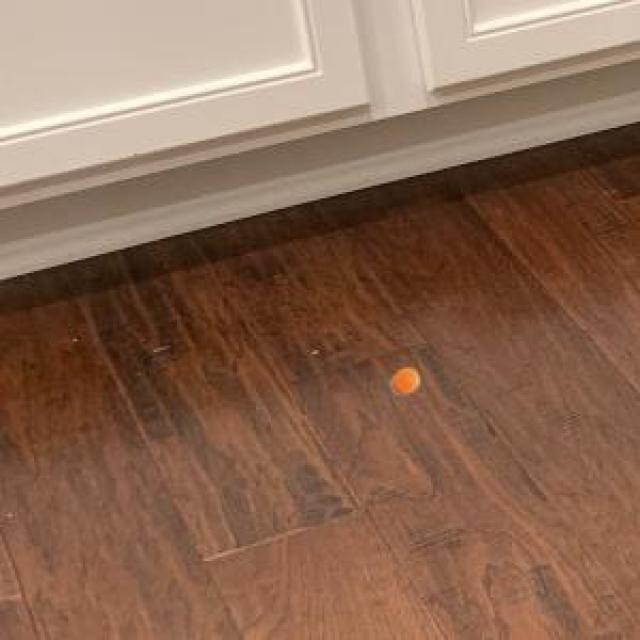Bactidol: (384, 356, 429, 409)
